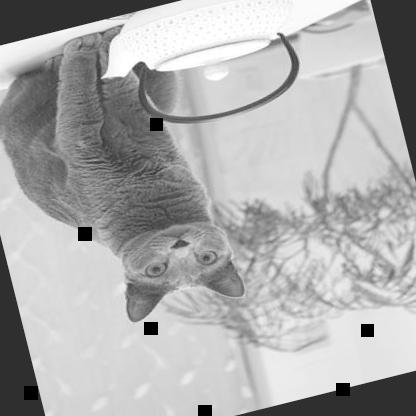cat: (0, 11, 249, 347)
